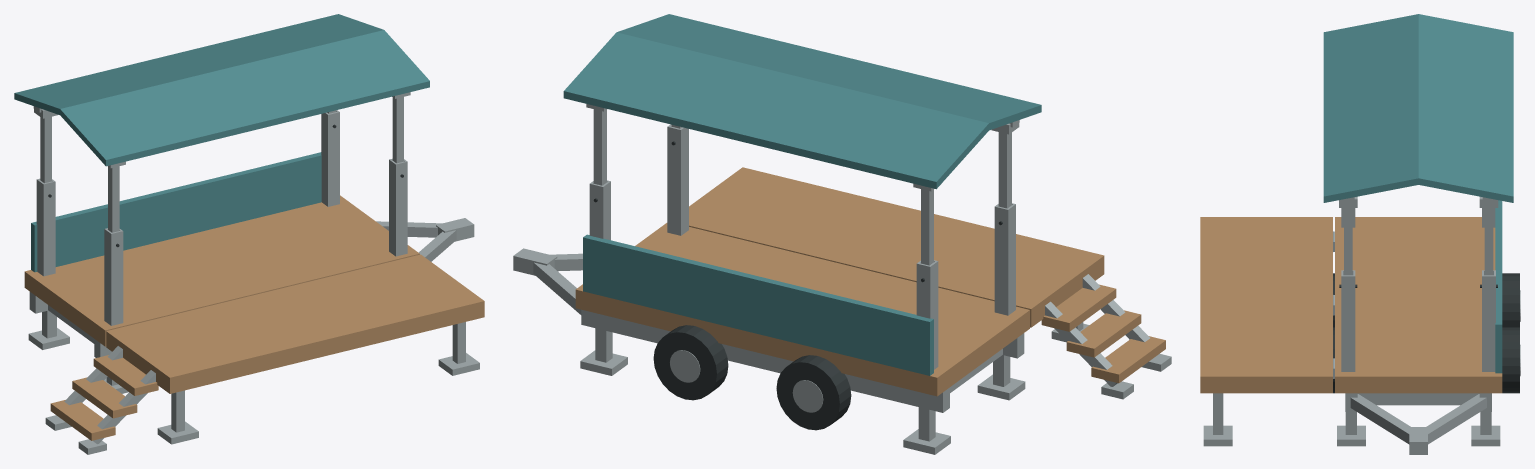
The picture shows the model from 3 angles, left to right: view 1: azimuth 30°, elevation 25°; view 2: azimuth 150°, elevation 25°; view 3: azimuth 270°, elevation 25°; orthographic projection. The views are drawn at different scales.
Parts seen in each view (by area): view 1: WholeRaisedShallowGabledRoof, WholeExpandedSideDeck, WholeMainStageDeck, WholeLowRearStageBackboard, WholeCornerOuterSleeve_(-1.65, -0.68), WholeCornerOuterSleeve_(-1.65, 0.68), WholeCornerOuterSleeve_(1.65, -0.68), WholeCornerOuterSleeve_(1.65, 0.68), WholeAccessTread_1, WholeAccessTread_0, WholeAccessTread_2, WholeRaisedInnerPost_(-1.65, -0.68) (+12 smaller); view 2: WholeRaisedShallowGabledRoof, WholeExpandedSideDeck, WholeMainStageDeck, WholeLowRearStageBackboard, WholeLongChassisRail_0.65, WholeTandemTyre_(-0.62, 1), WholeTandemTyre_(0.62, 1), WholeCornerOuterSleeve_(-1.65, -0.68), WholeCornerOuterSleeve_(1.65, -0.68), WholeAccessTread_1, WholeAccessTread_0, WholeAccessTread_2 (+14 smaller); view 3: WholeRaisedShallowGabledRoof, WholeMainStageDeck, WholeExpandedSideDeck, WholeCornerOuterSleeve_(1.65, -0.68), WholeCornerOuterSleeve_(1.65, 0.68), WholeChassisCrossRail_1.62, WholeLowRearStageBackboard, WholeTandemTyre_(0.62, 1), WholeConvergingTowRail_-0.63, WholeConvergingTowRail_0.63, WholeTandemTyre_(-0.62, 1), WholeRaisedInnerPost_(1.65, 0.68) (+6 smaller).
Part boxes in pixels (x1,y1,x2,y2): WholeRaisedShallowGabledRoof: (14, 14, 429, 166); WholeExpandedSideDeck: (106, 254, 484, 393); WholeMainStageDeck: (24, 195, 419, 346); WholeLowRearStageBackboard: (31, 152, 321, 272); WholeCornerOuterSleeve_(-1.65, -0.68): (104, 228, 123, 325); WholeCornerOuterSleeve_(-1.65, 0.68): (36, 178, 55, 276); WholeCornerOuterSleeve_(1.65, -0.68): (389, 158, 407, 256); WholeCornerOuterSleeve_(1.65, 0.68): (321, 110, 339, 206); WholeAccessTread_1: (72, 377, 137, 418); WholeAccessTread_0: (50, 400, 115, 440); WholeAccessTread_2: (93, 355, 158, 395); WholeRaisedInnerPost_(-1.65, -0.68): (108, 166, 119, 232); WholeRaisedShallowGabledRoof: (563, 14, 1041, 189); WholeExpandedSideDeck: (689, 167, 1104, 327); WholeMainStageDeck: (575, 223, 1029, 396); WholeLowRearStageBackboard: (583, 234, 933, 375); WholeLongChassisRail_0.65: (581, 309, 949, 412); WholeTandemTyre_(-0.62, 1): (776, 355, 851, 430); WholeTandemTyre_(0.62, 1): (653, 325, 728, 400); WholeCornerOuterSleeve_(-1.65, -0.68): (994, 203, 1015, 315); WholeCornerOuterSleeve_(1.65, -0.68): (667, 124, 688, 235); WholeAccessTread_1: (1066, 310, 1141, 357); WholeAccessTread_0: (1091, 336, 1165, 383); WholeAccessTread_2: (1041, 284, 1116, 331); WholeRaisedShallowGabledRoof: (1323, 14, 1513, 202); WholeMainStageDeck: (1335, 217, 1502, 393); WholeExpandedSideDeck: (1200, 217, 1332, 393); WholeCornerOuterSleeve_(1.65, -0.68): (1341, 270, 1355, 371); WholeCornerOuterSleeve_(1.65, 0.68): (1482, 270, 1495, 371); WholeChassisCrossRail_1.62: (1357, 393, 1479, 405); WholeLowRearStageBackboard: (1495, 200, 1502, 373); WholeTandemTyre_(0.62, 1): (1502, 327, 1519, 393); WholeConvergingTowRail_-0.63: (1350, 394, 1410, 444); WholeConvergingTowRail_0.63: (1426, 394, 1486, 444); WholeTandemTyre_(-0.62, 1): (1502, 273, 1519, 327); WholeRaisedInnerPost_(1.65, 0.68): (1484, 208, 1493, 275).
Size of the model in its own units: 5.51 by 2.9 by 3.1.
